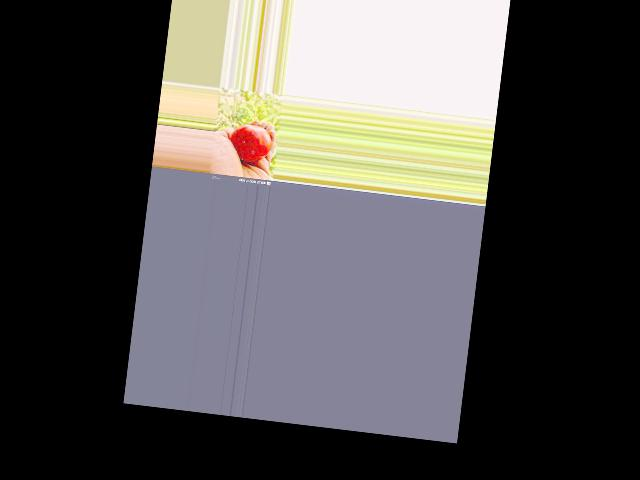tomato: (227, 123, 272, 164)
